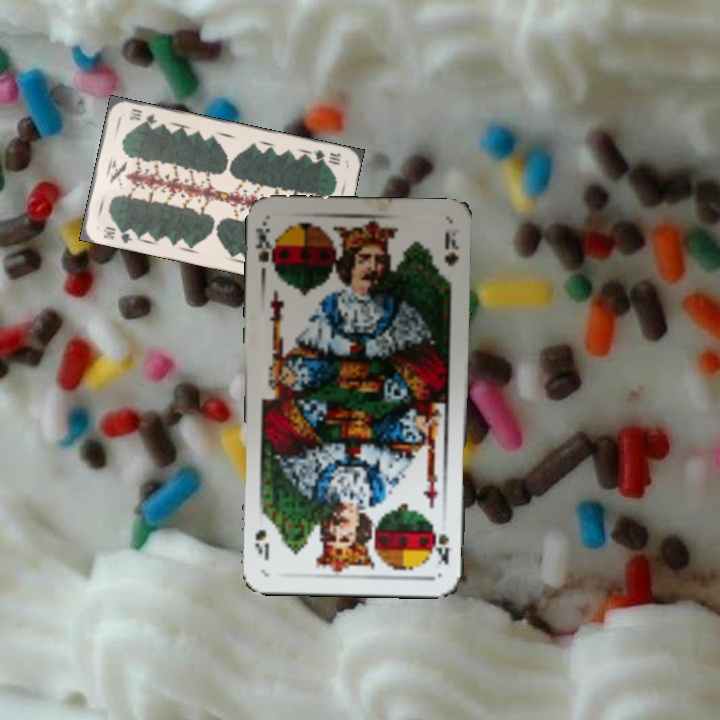G10: (99, 222, 135, 246), (306, 145, 344, 167)
SK: (252, 219, 279, 275), (431, 526, 452, 567)
